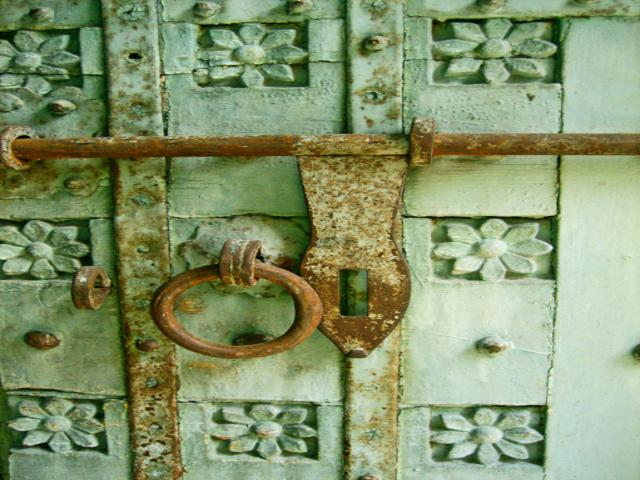Door-handle: (0, 115, 639, 358), (150, 213, 326, 359)
